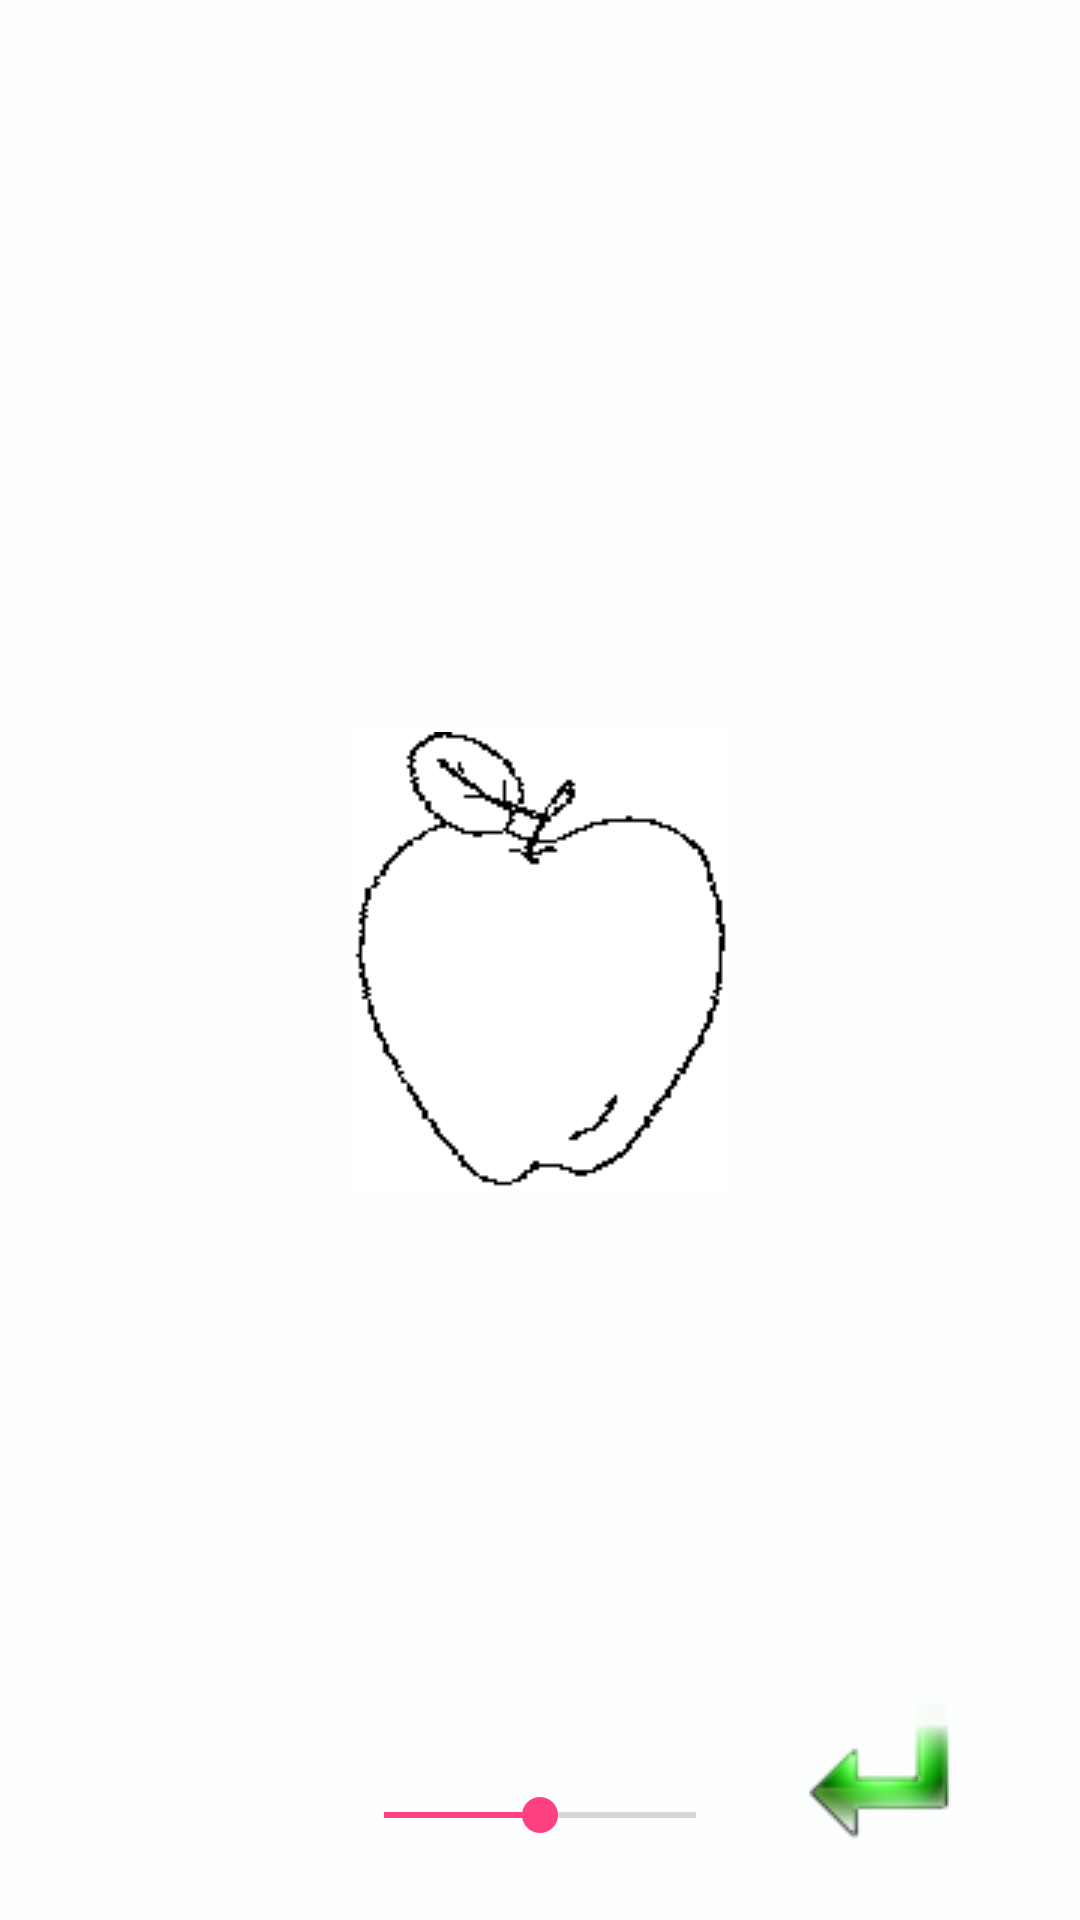

Icons on this 1080w x 1920h Android screen, each with its box as BBox(x1, y1, x2, y2):
back arrow: BBox(809, 1726, 949, 1838)
